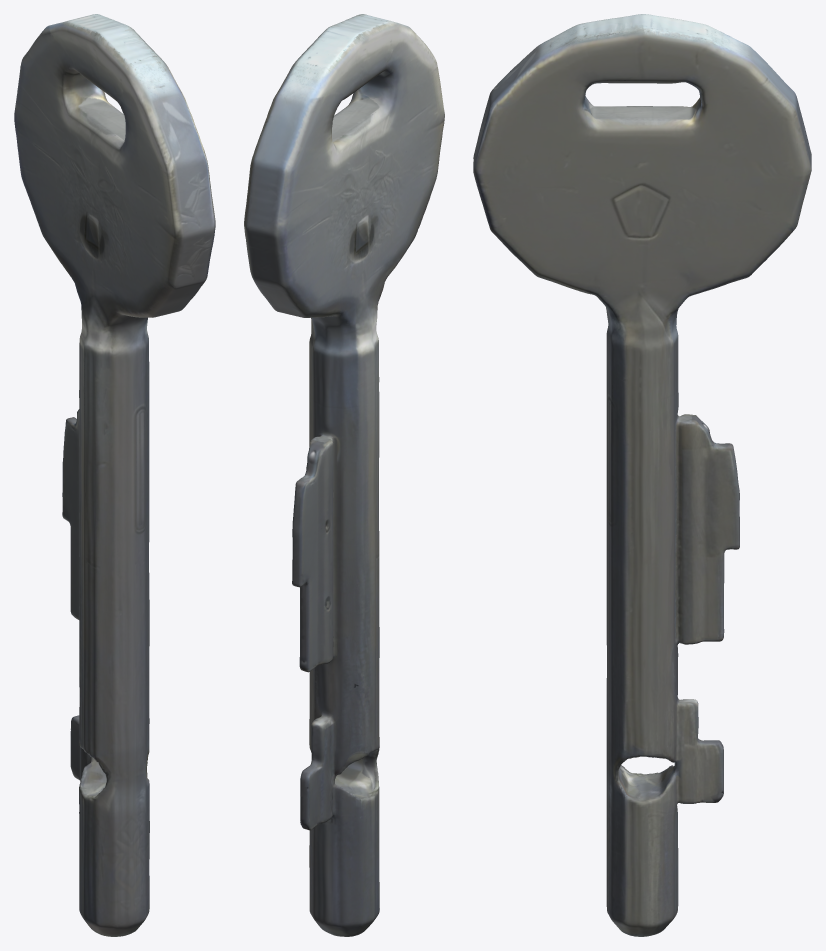
File: key.fbx
3 views of the same model, side by side, from view 1: azimuth 30°, elevation 25°; view 2: azimuth 150°, elevation 25°; view 3: azimuth 270°, elevation 25° (orthographic).
Visible parts, largest first — view 1: Mesh_0; view 2: Mesh_0; view 3: Mesh_0.
Part boxes in pixels (x1,y1,x2,y2): Mesh_0: (14,14,215,936); Mesh_0: (244,14,444,936); Mesh_0: (473,14,811,936).
Size of the model in its own units: 14.21 by 200 by 67.31.
1 material, 1 textured.
